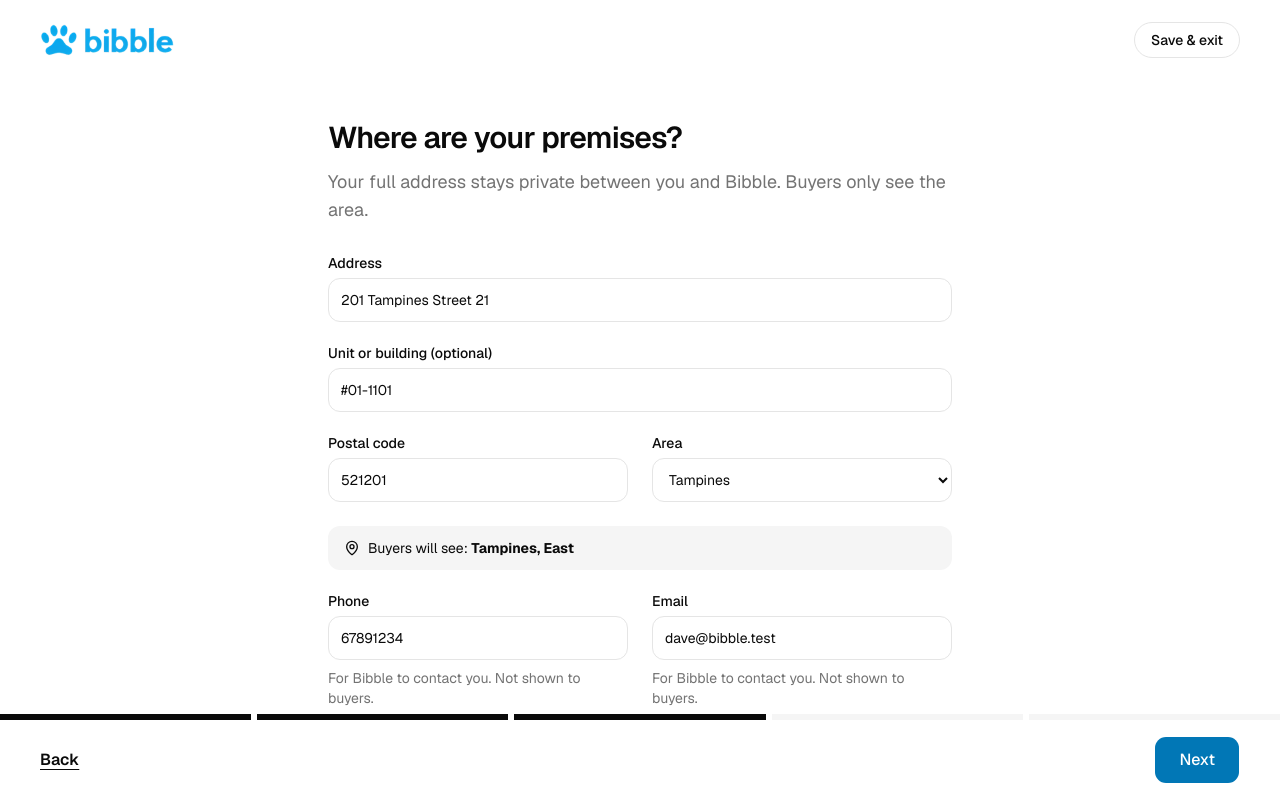
Test case: Location step › shows returned errors
This screenshot has width=1280, height=800.
Click the button "Next" at point(1197, 760), box 1154,736 -> 1240,784
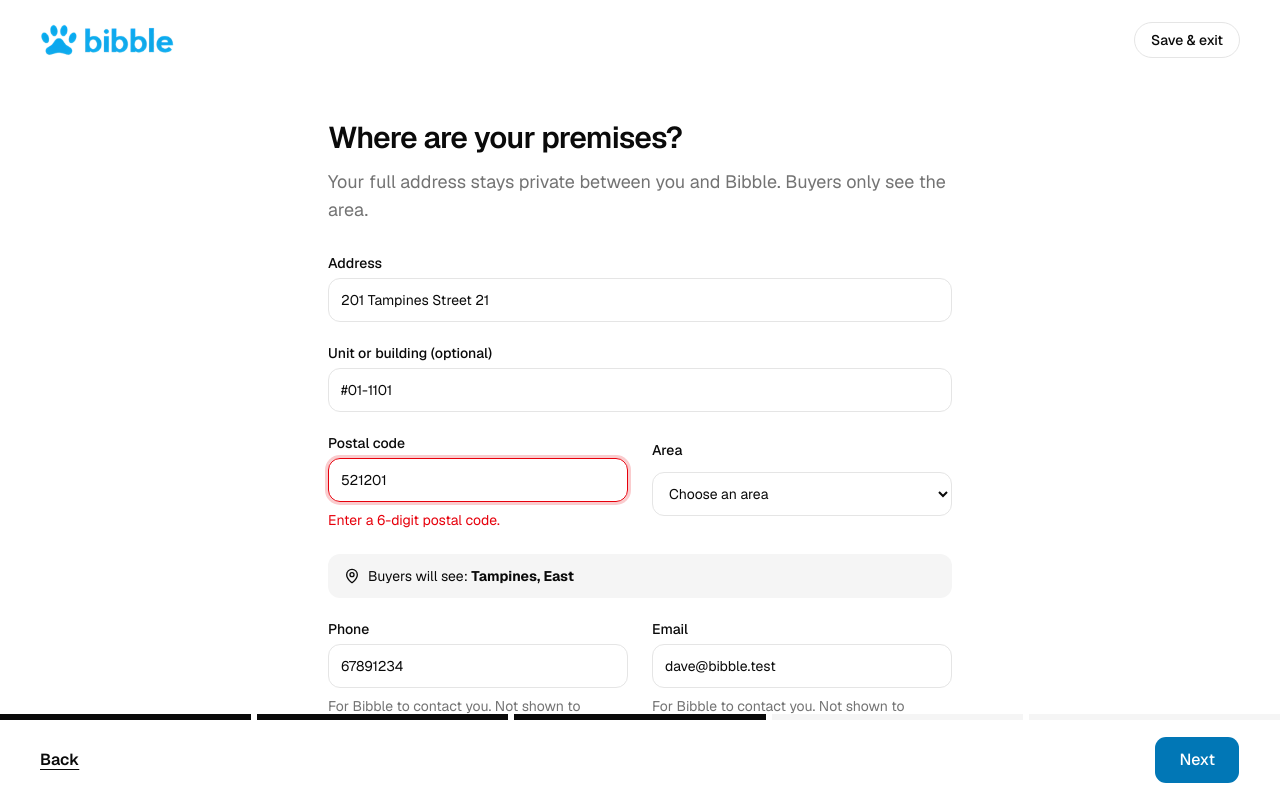
Check: the text "Enter a 6-digit postal code." is shown, box 328,511 -> 500,529
